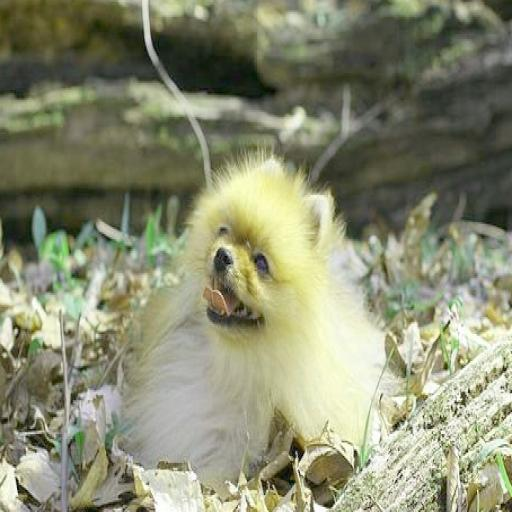dog_face: (199, 161, 333, 343)
